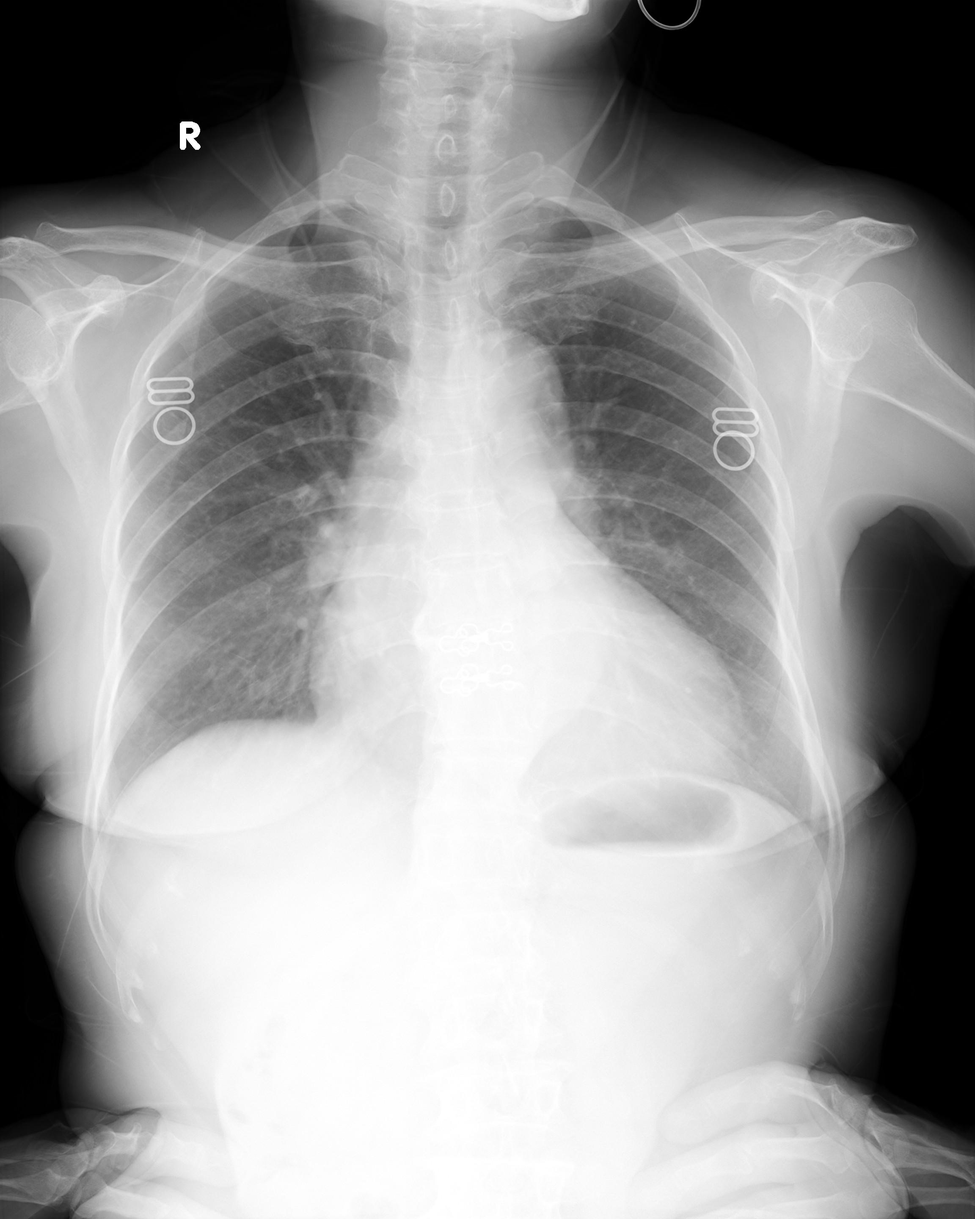Aortic enlargement: (453, 328, 571, 446)
Cardiomegaly: (308, 615, 744, 779)
